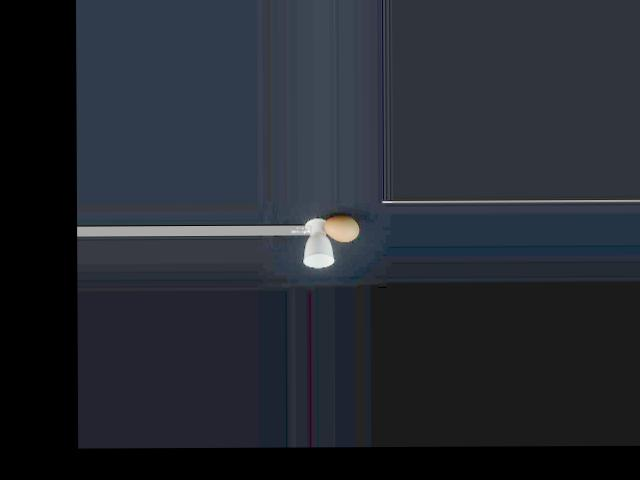egg: (323, 217, 358, 242)
